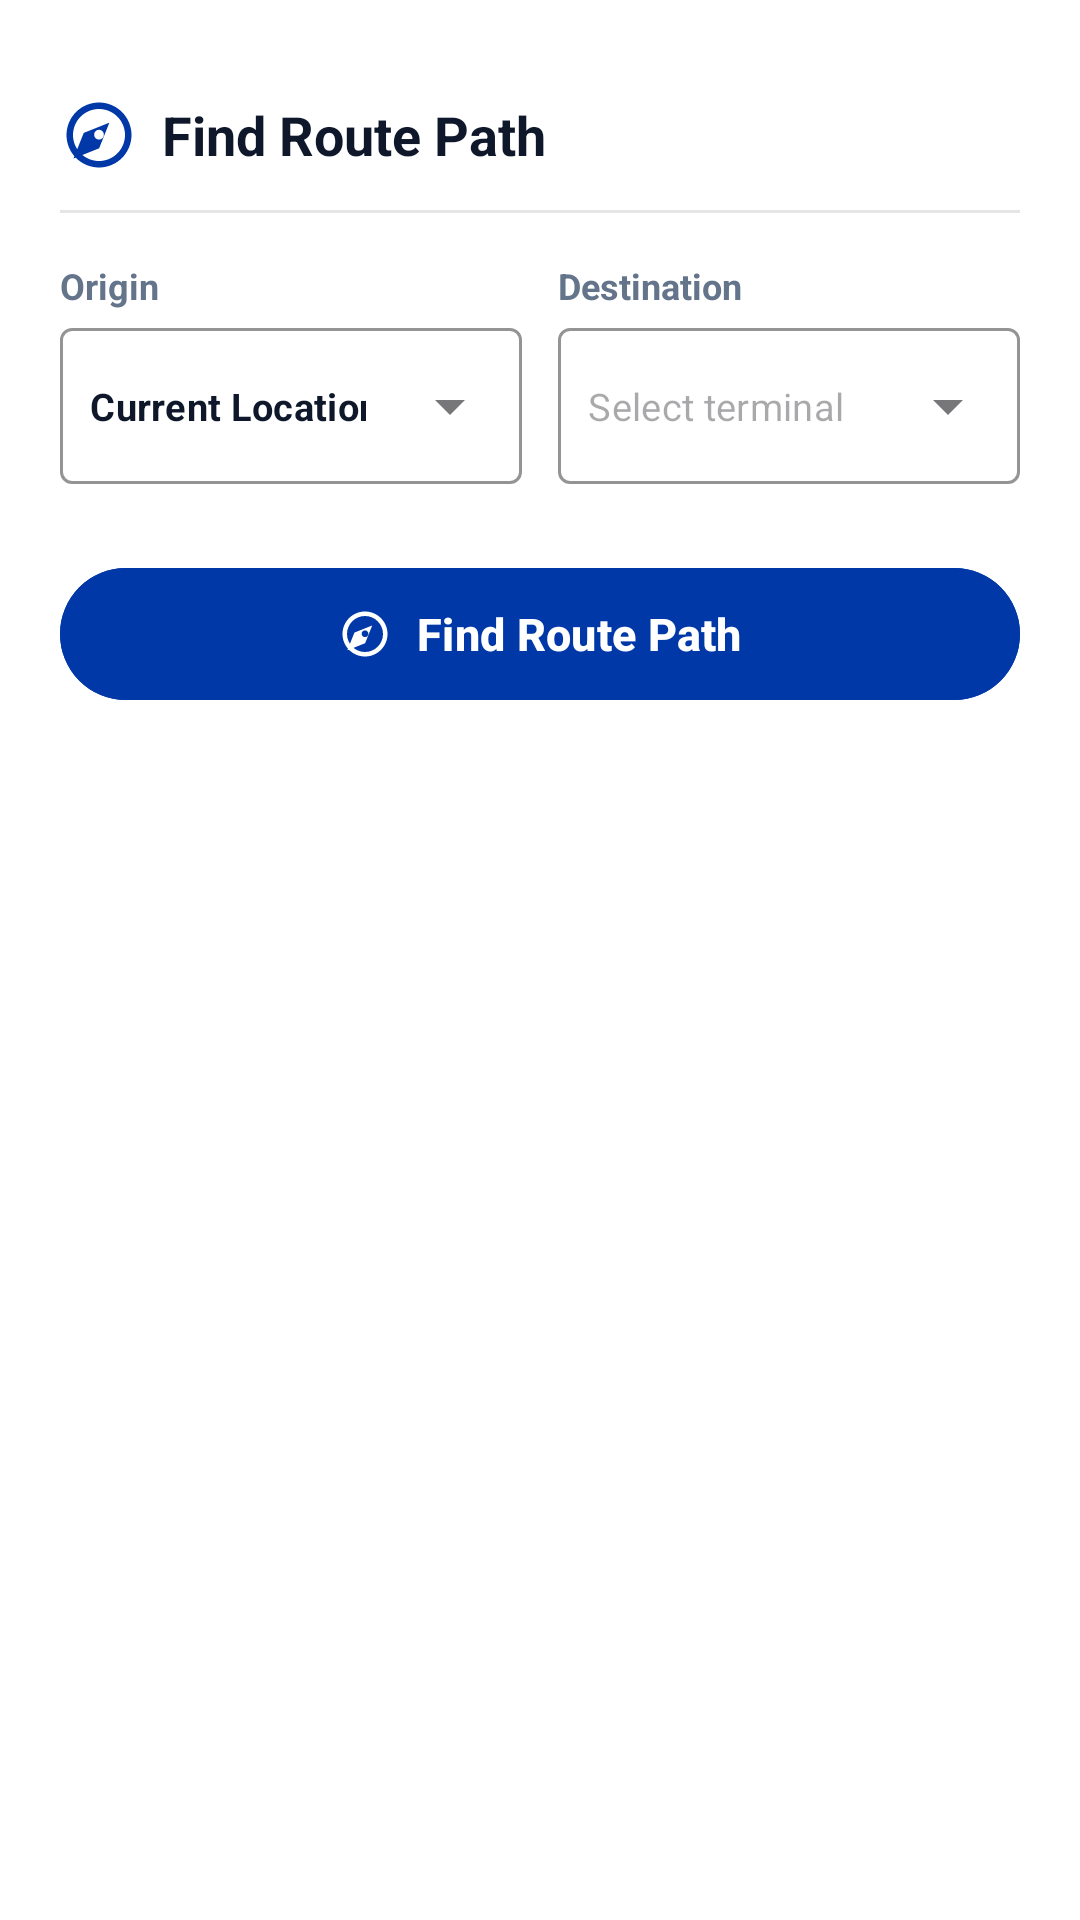

Icons on this 1080*1920 Android screen, each with its box as box=[x1, y1, x2, y2]:
compass: box=[66, 102, 132, 168]
